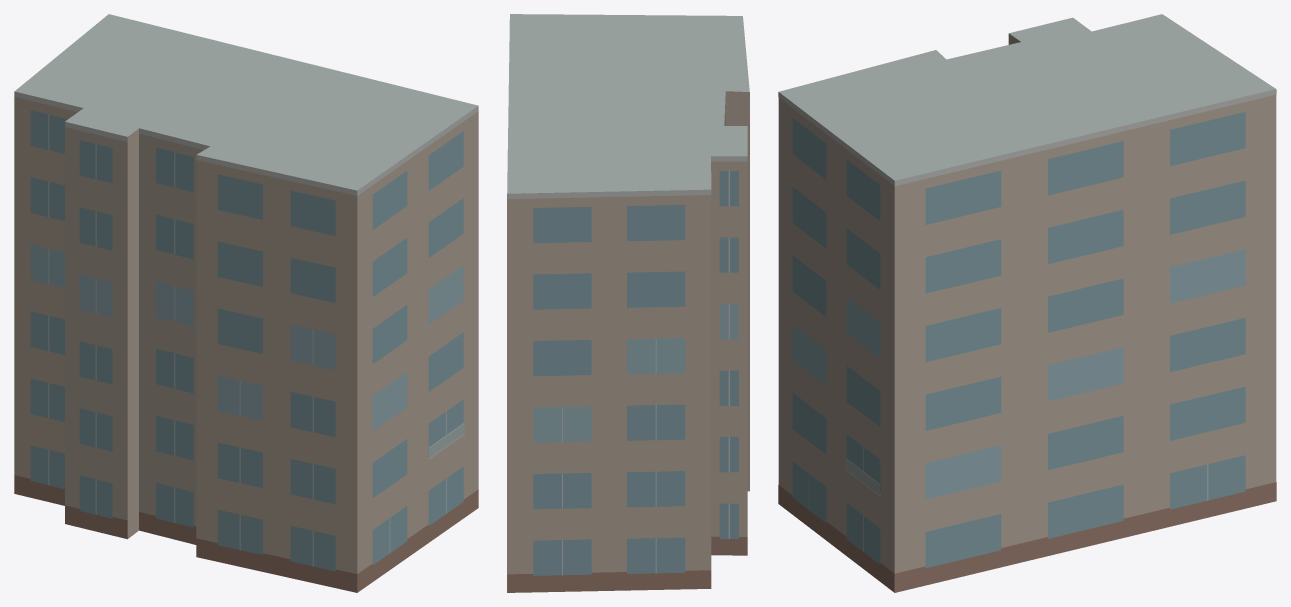
The model's file is survey-upis-32978013.glb.
The picture shows the model from 3 angles, left to right: view 1: azimuth 30°, elevation 25°; view 2: azimuth 150°, elevation 25°; view 3: azimuth 270°, elevation 25°; orthographic projection. The views are drawn at different scales.
Parts seen in each view (by area): view 1: survey-upis-32978013.tmp; view 2: survey-upis-32978013.tmp; view 3: survey-upis-32978013.tmp.
Part boxes in pixels (x1,y1,x2,y2): survey-upis-32978013.tmp: [14, 14, 478, 592]; survey-upis-32978013.tmp: [507, 14, 749, 592]; survey-upis-32978013.tmp: [778, 14, 1276, 592].
Size of the model in its own units: 15.9 by 18.3 by 20.05.
